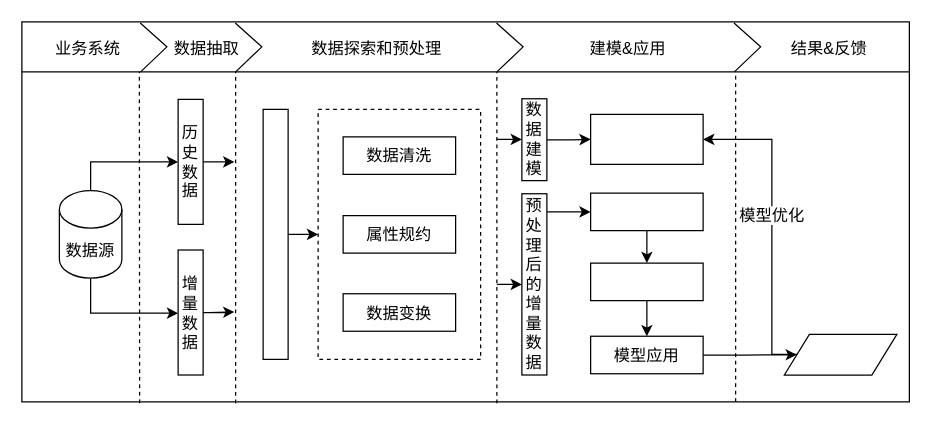
The diagram is 933 pixels wide and 426 high, and some of its shapes have lost their labels. The centre of each missing label's shape, as x and y in pixels:
"基于 LRFMC 的客户分群" belongs at point (646, 138).
"客户价值排名" belongs at point (646, 281).
"应用结果" belongs at point (840, 354).
"模型分析" belongs at point (646, 211).
"缺失值与异常值分析" belongs at point (275, 233).
